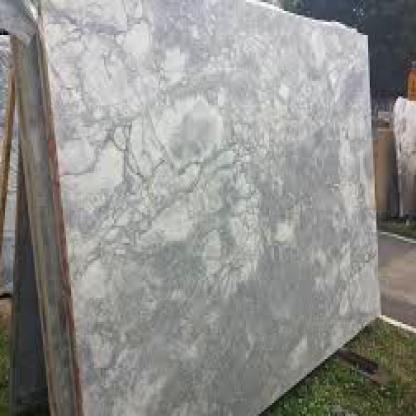Metamorphic_Quartize: (4, 0, 382, 414)
